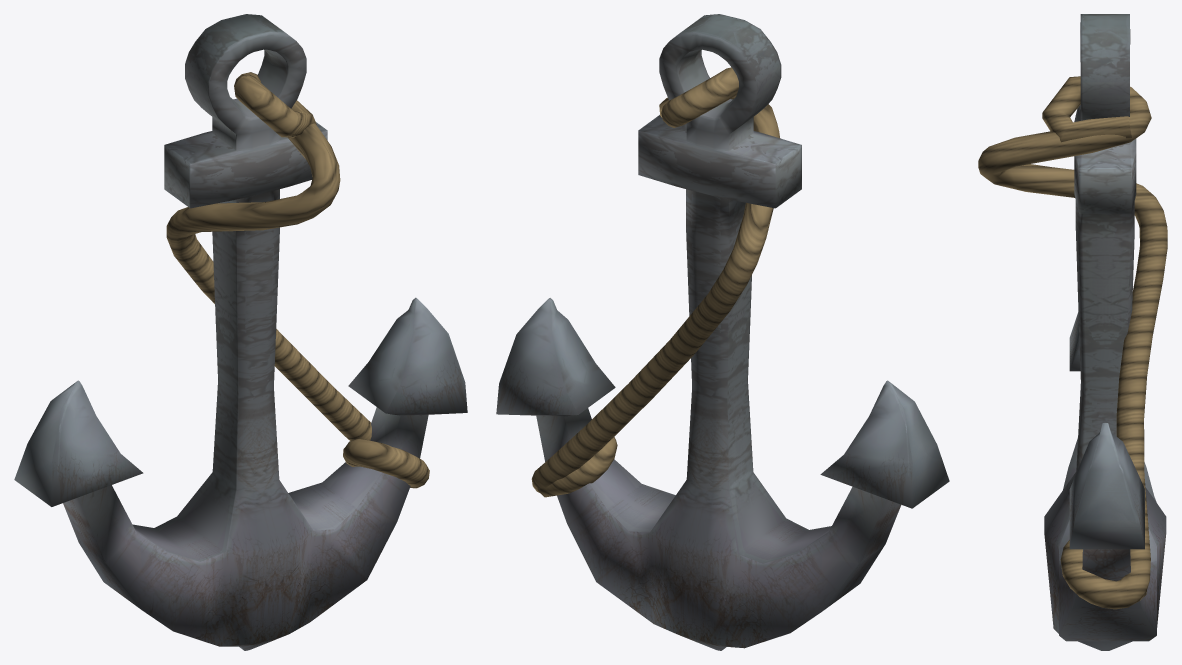
The model's file is anchor.glb.
The picture shows the model from 3 angles, left to right: view 1: azimuth 30°, elevation 25°; view 2: azimuth 150°, elevation 25°; view 3: azimuth 270°, elevation 25°; orthographic projection.
Visible parts, largest first — view 1: Cube.041, NurbsPath.001; view 2: Cube.041, NurbsPath.001; view 3: Cube.041, NurbsPath.001.
Part boxes in pixels (left/top/right/bottom): Cube.041: left=14, top=14, right=467, bottom=650; NurbsPath.001: left=166, top=72, right=429, bottom=488; Cube.041: left=496, top=14, right=949, bottom=650; NurbsPath.001: left=531, top=67, right=779, bottom=497; Cube.041: left=1044, top=14, right=1166, bottom=650; NurbsPath.001: left=978, top=76, right=1167, bottom=609.
Size of the model in its own units: 124 by 177 by 48.47.
Materials: 2 (2 with a texture image).
